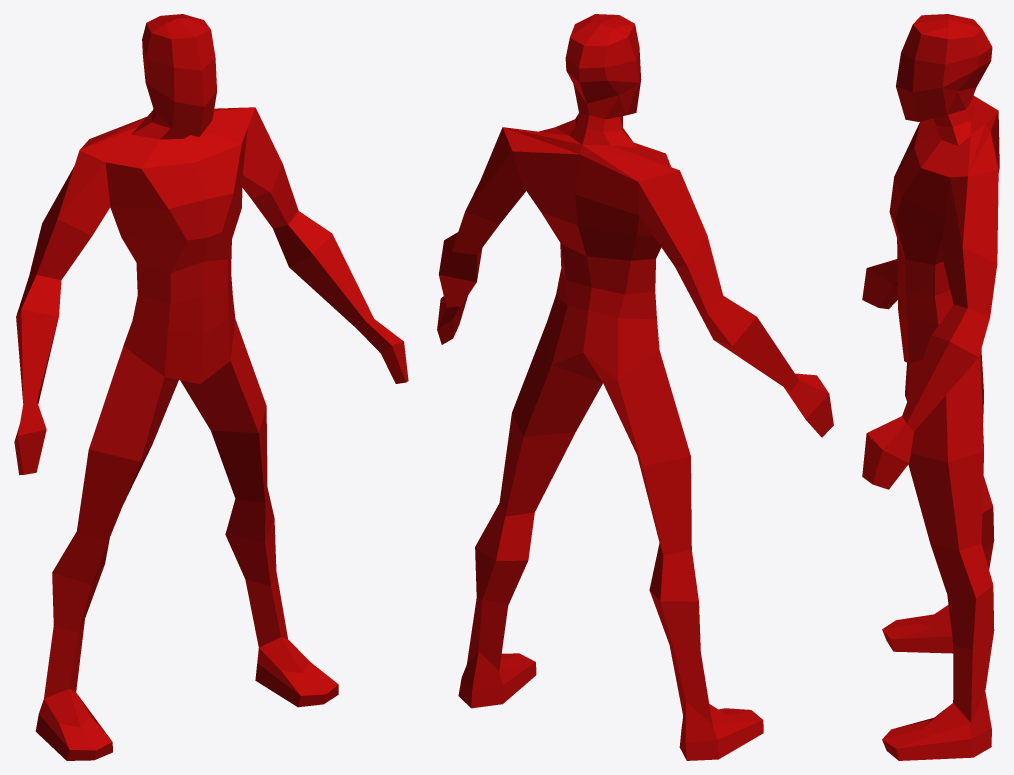
Rendered from guy.glb.
The picture shows the model from 3 angles, left to right: view 1: azimuth 30°, elevation 25°; view 2: azimuth 150°, elevation 25°; view 3: azimuth 270°, elevation 25°; orthographic projection. The views are drawn at different scales.
Visible parts, largest first — view 1: BASE_Low_Poly_Man; view 2: BASE_Low_Poly_Man; view 3: BASE_Low_Poly_Man.
Boxes of the visible parts, x1,y1,x2,y2 form: BASE_Low_Poly_Man: (14, 14, 408, 760); BASE_Low_Poly_Man: (437, 14, 833, 760); BASE_Low_Poly_Man: (862, 14, 999, 760).
Size of the model in its own units: 3.36 by 5.75 by 1.06.
